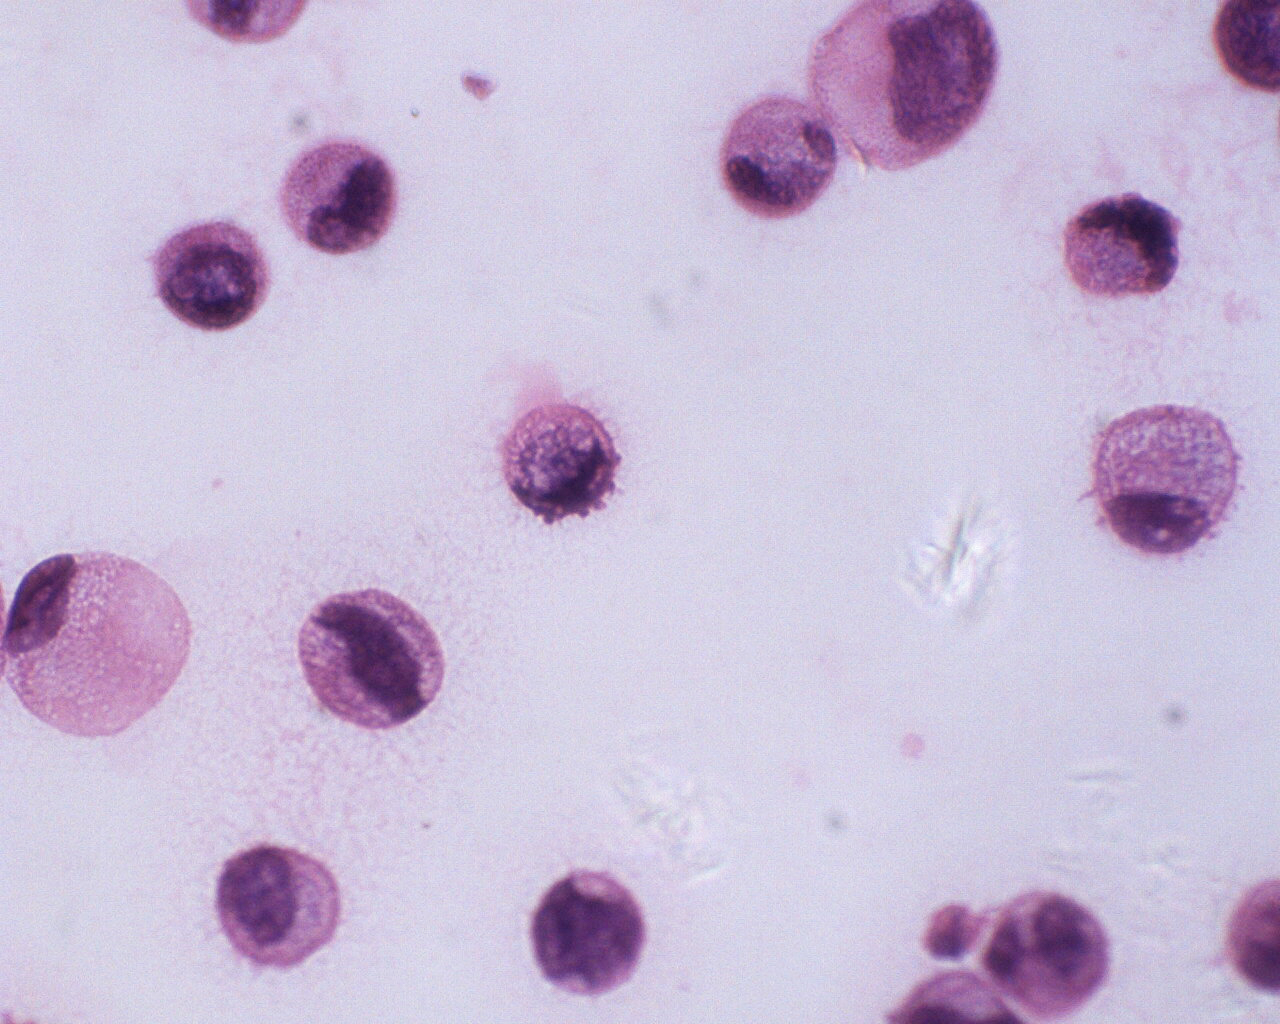ab: (812, 1, 998, 174), (293, 583, 451, 731), (525, 865, 655, 1008), (212, 842, 349, 977), (1054, 184, 1187, 304), (149, 217, 270, 338), (280, 138, 399, 259)
histo: (5, 549, 197, 741), (1079, 404, 1243, 563)
